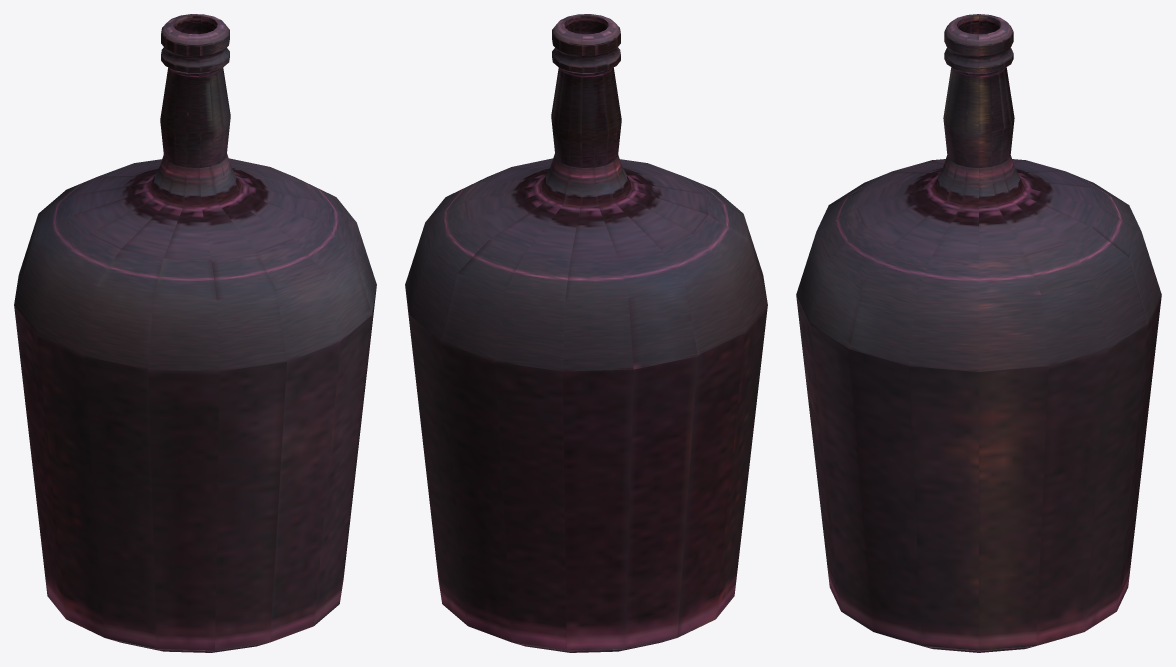
File: jug03.fbx
The picture shows the model from 3 angles, left to right: view 1: azimuth 30°, elevation 25°; view 2: azimuth 150°, elevation 25°; view 3: azimuth 270°, elevation 25°; orthographic projection.
Visible parts, largest first — view 1: bottle03; view 2: bottle03; view 3: bottle03.
Part boxes in pixels (x1,y1,x2,y2): bottle03: [14, 14, 376, 652]; bottle03: [405, 14, 767, 652]; bottle03: [796, 14, 1161, 652].
Bounding box in the file's own units: 0.4017 × 0.4017 × 0.6988.
Materials: 1 (1 with a texture image).
